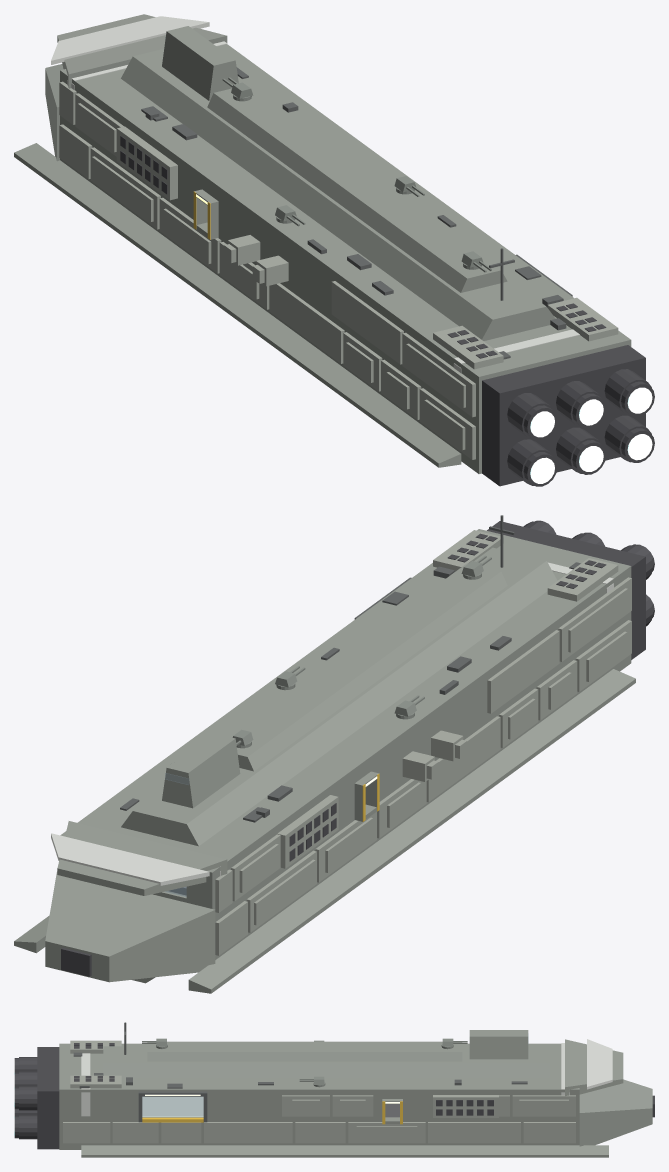
File: ship_SMALL_FRIGATE_v2.glb
3 renders of one model, top to bottom at view 1: azimuth 30°, elevation 25°; view 2: azimuth 150°, elevation 25°; view 3: azimuth 270°, elevation 25°, orthographic. The views are drawn at different scales.
Visible parts, largest first — view 1: SMALL_FRIGATE_Hull-col, SMALL_FRIGATE_Armor, SMALL_FRIGATE_Engines, SMALL_FRIGATE_Accent, SMALL_FRIGATE_EngineGlow, SMALL_FRIGATE_Details, SMALL_FRIGATE_EscapePod_1, SMALL_FRIGATE_EscapePod_2; view 2: SMALL_FRIGATE_Hull-col, SMALL_FRIGATE_Armor, SMALL_FRIGATE_Engines, SMALL_FRIGATE_Accent, SMALL_FRIGATE_Details, SMALL_FRIGATE_EscapePod_2, SMALL_FRIGATE_EscapePod_1; view 3: SMALL_FRIGATE_Hull-col, SMALL_FRIGATE_Armor, SMALL_FRIGATE_Engines, SMALL_FRIGATE_Accent, SMALL_FRIGATE_CargoBayShield, SMALL_FRIGATE_CargoBayDoor-col, SMALL_FRIGATE_Trim, SMALL_FRIGATE_Details, SMALL_FRIGATE_Hazard.
Boxes of the visible parts, x1,y1,x2,y2 form: SMALL_FRIGATE_Hull-col: (14,14,631,473); SMALL_FRIGATE_Armor: (59,81,618,459); SMALL_FRIGATE_Engines: (120,135,654,486); SMALL_FRIGATE_Accent: (51,16,579,372); SMALL_FRIGATE_EngineGlow: (530,387,652,483); SMALL_FRIGATE_Details: (141,67,566,359); SMALL_FRIGATE_EscapePod_1: (252,255,288,286); SMALL_FRIGATE_EscapePod_2: (224,235,260,265); SMALL_FRIGATE_Hull-col: (14,529,635,993); SMALL_FRIGATE_Armor: (215,530,631,955); SMALL_FRIGATE_Engines: (61,520,654,976); SMALL_FRIGATE_Accent: (51,562,613,885); SMALL_FRIGATE_Details: (120,515,580,822); SMALL_FRIGATE_EscapePod_2: (402,751,438,781); SMALL_FRIGATE_EscapePod_1: (431,730,466,761); SMALL_FRIGATE_Hull-col: (59,1030,652,1157); SMALL_FRIGATE_Armor: (63,1040,575,1143); SMALL_FRIGATE_Engines: (14,1043,654,1149); SMALL_FRIGATE_Accent: (81,1039,612,1116); SMALL_FRIGATE_CargoBayShield: (142,1096,203,1116); SMALL_FRIGATE_CargoBayDoor-col: (142,1096,203,1116); SMALL_FRIGATE_Trim: (138,1091,207,1122); SMALL_FRIGATE_Details: (73,1022,527,1088); SMALL_FRIGATE_Hazard: (142,1101,402,1124).
Size of the model in its own units: 19.8 by 17.4 by 87.5.
